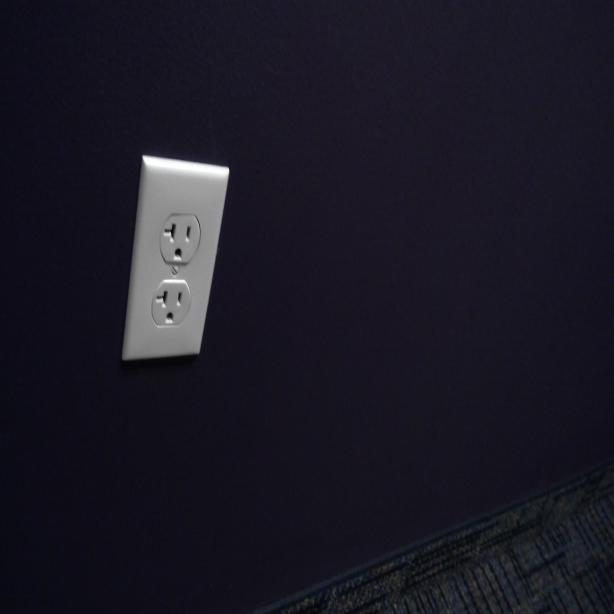typeb: (157, 211, 200, 264), (154, 278, 189, 330)
